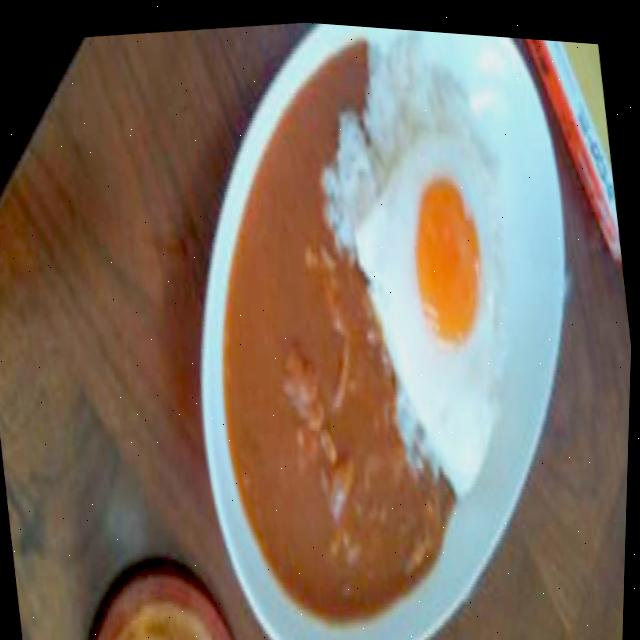牛肉菜式: (141, 9, 637, 640)
